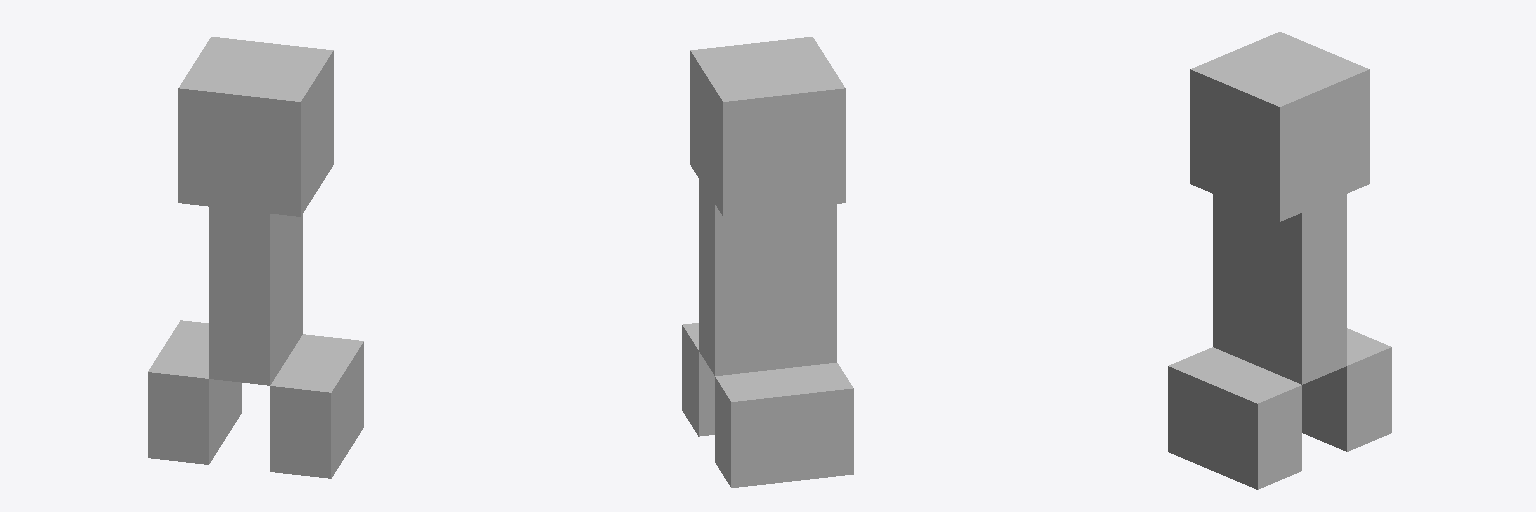
The model's file is creeper_d1.obj.
3 renders of one model, left to right at view 1: azimuth 30°, elevation 25°; view 2: azimuth 150°, elevation 25°; view 3: azimuth 270°, elevation 25°, orthographic.
Parts seen in each view (by area): view 1: creeper_d1; view 2: creeper_d1; view 3: creeper_d1.
Part boxes in pixels (x1,y1,x2,y2): creeper_d1: (148, 37, 363, 478); creeper_d1: (682, 37, 853, 487); creeper_d1: (1168, 32, 1391, 489).
Bounding box in the file's own units: 14.14 × 26 × 14.14.